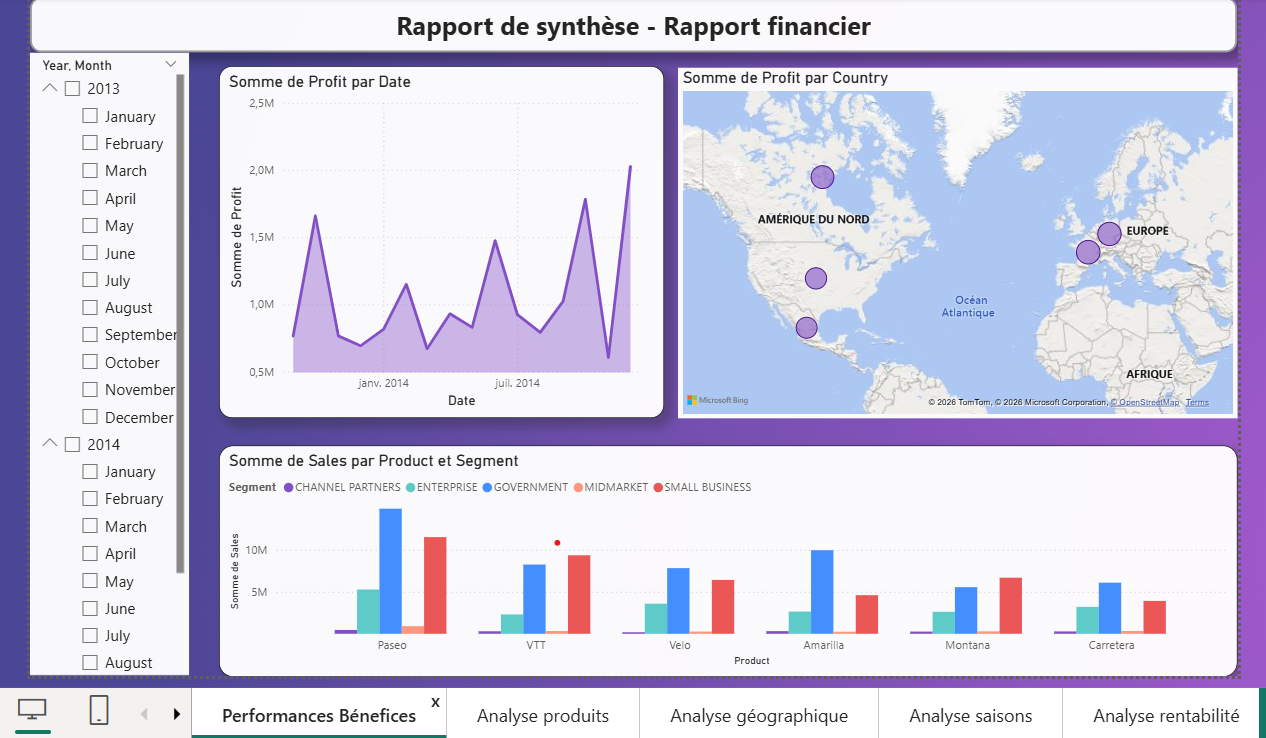

Layout of this report page (visuals, bound fields, positions):
{"tool":"powerbi","page":{"name":"Performances Bénefices","canvas":[1280,720],"ordinal":0},"visuals":[{"type":"textbox","box":[0,0,1280,58.3],"z":0},{"type":"areaChart","fields":{"Category":["Calendar.Date"],"Y":["Sum(financials.Profit)"]},"box":[200,73.3,471.7,373.3],"z":1000},{"type":"slicer","fields":{"Values":["Calendar.Date.Variation.Date Hierarchy.Year","Calendar.Date.Variation.Date Hierarchy.Month"]},"box":[0,58.3,168.3,660],"z":3000},{"type":"map","fields":{"Size":["Sum(financials.Profit)"],"Category":["financials.Country"]},"box":[687.1,74.8,593.3,372.2],"z":4000},{"type":"clusteredColumnChart","fields":{"Y":["Sum(financials. Sales)"],"Category":["financials.Product"],"Series":["financials.Segment"]},"box":[200,475,1080,245],"z":4001}]}

Visuals, with their boxes in screenshot pixels (x1, y1, x2, y2):
textbox: [26,0,1231,48]
areaChart - Calendar.Date x Sum(financials.Profit): [215,62,658,414]
slicer - Calendar.Date.Variation.Date Hierarchy.Year x Calendar.Date.Variation.Date Hierarchy.Month: [26,48,185,669]
map - Sum(financials.Profit) x financials.Country: [673,64,1231,414]
clusteredColumnChart - Sum(financials. Sales) x financials.Product: [215,440,1231,671]
